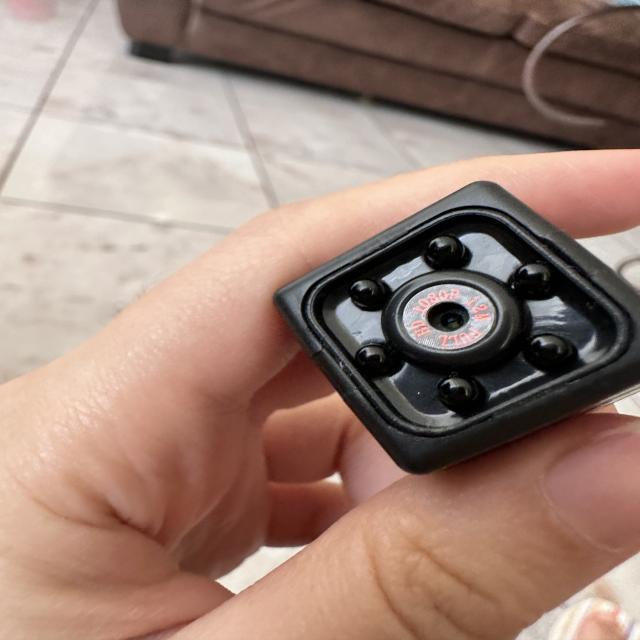hidden camera: (424, 299, 479, 337)
